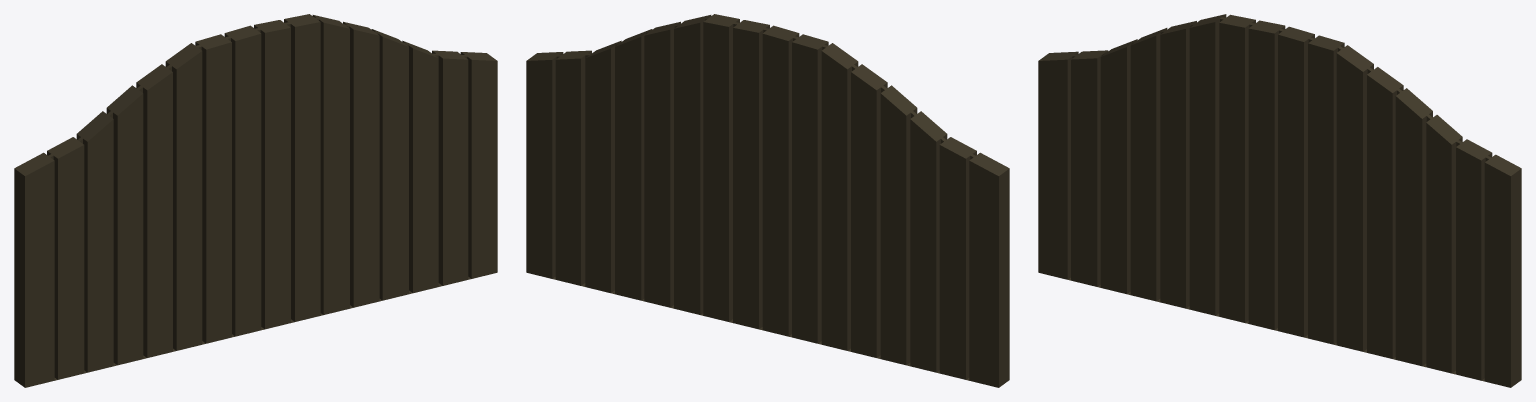
Rendered from door.fbx.
3 views of the same model, side by side, from view 1: azimuth 30°, elevation 25°; view 2: azimuth 150°, elevation 25°; view 3: azimuth 330°, elevation 25° (orthographic).
Visible parts, largest first — view 1: pCube1; view 2: pCube1; view 3: pCube1.
Boxes of the visible parts, bbox=[...] form: pCube1: bbox=[14, 14, 497, 387]; pCube1: bbox=[526, 14, 1009, 387]; pCube1: bbox=[1038, 14, 1521, 387].
Bounding box in the file's own units: 250 × 150 × 10.
Materials: 1 (1 with a texture image).
